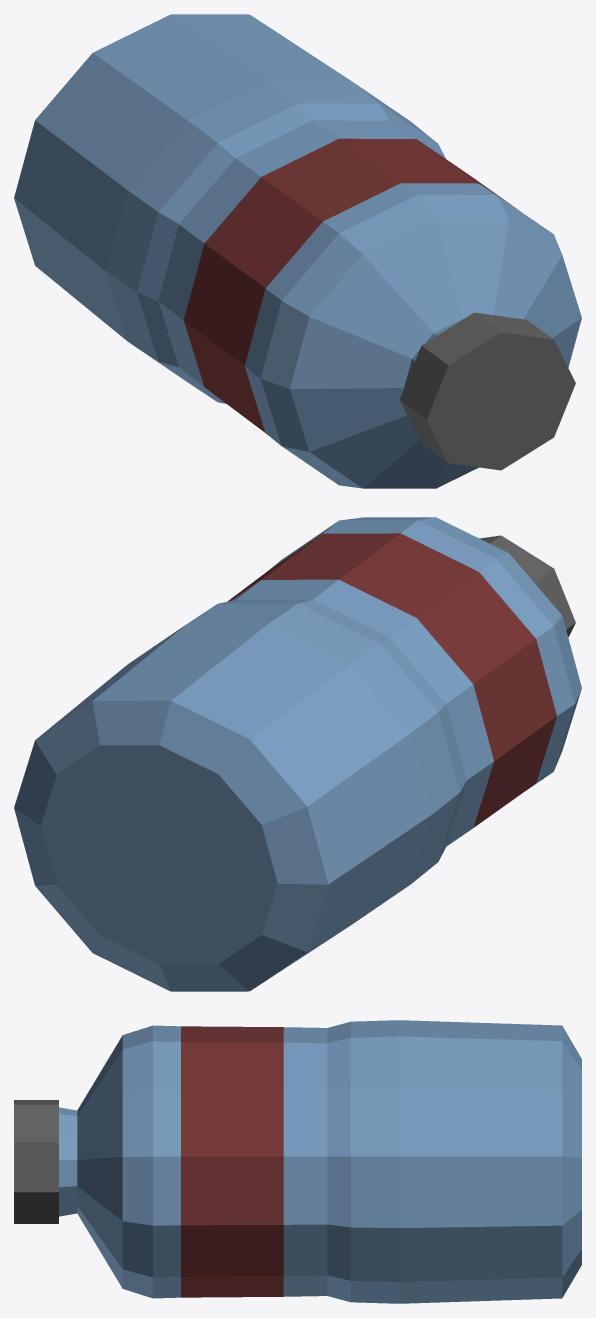
Rendered from SM_BottlePlasticE.glb.
The picture shows the model from 3 angles, top to bottom: view 1: azimuth 30°, elevation 25°; view 2: azimuth 150°, elevation 25°; view 3: azimuth 270°, elevation 25°; orthographic projection. The views are drawn at different scales.
Visible parts, largest first — view 1: part_00, part_01, part_02; view 2: part_00, part_01, part_02; view 3: part_00, part_01, part_02.
Boxes of the visible parts, x1,y1,x2,y2 form: part_00: (14, 14, 581, 488); part_01: (183, 138, 517, 432); part_02: (399, 312, 575, 470); part_00: (14, 517, 581, 991); part_01: (227, 533, 556, 827); part_02: (479, 535, 575, 637); part_00: (59, 1020, 581, 1303); part_01: (181, 1026, 283, 1297); part_02: (14, 1100, 58, 1223).
Size of the model in its own units: 0.1521 by 0.1346 by 0.2759.
